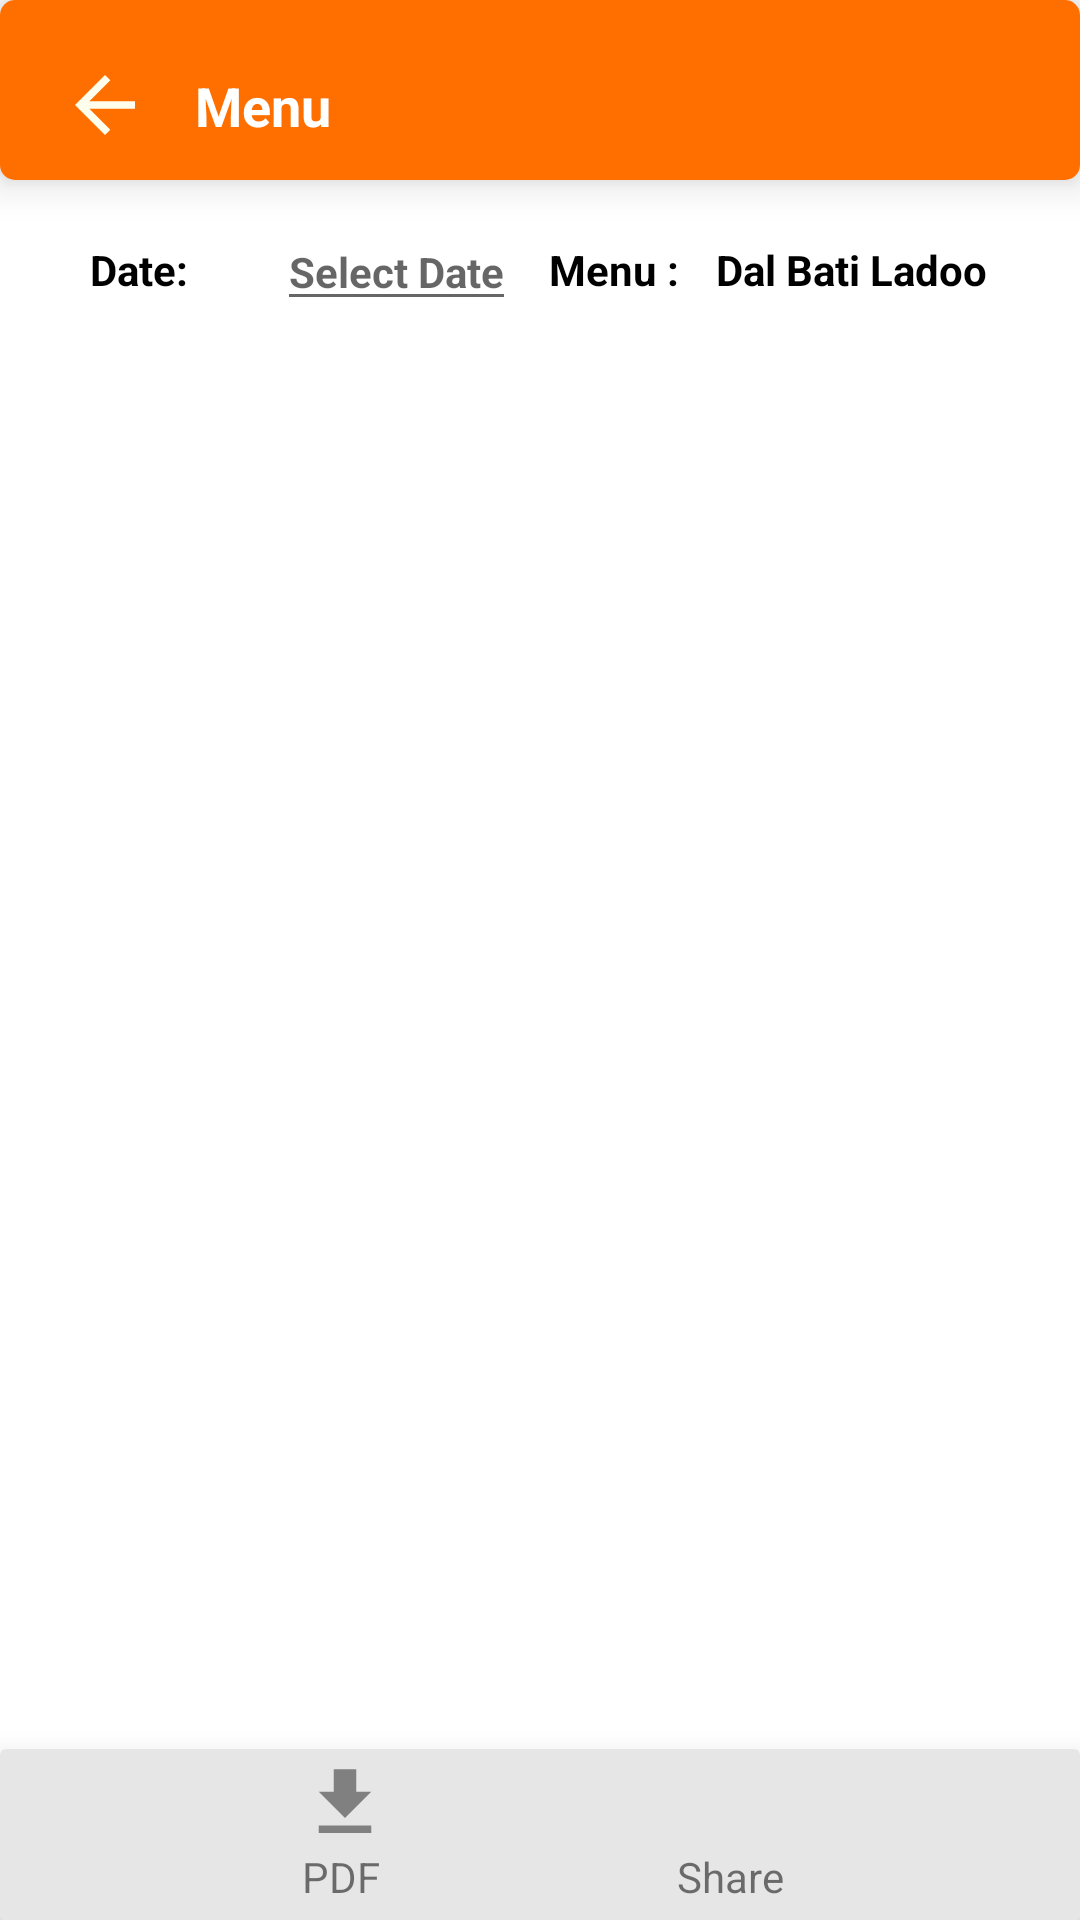

Icons on this 1080*1920 Android screen, each with its box as (x1, y1, x2, y2):
arrow back: (75, 75, 135, 135)
file download: (318, 1769, 372, 1833)
